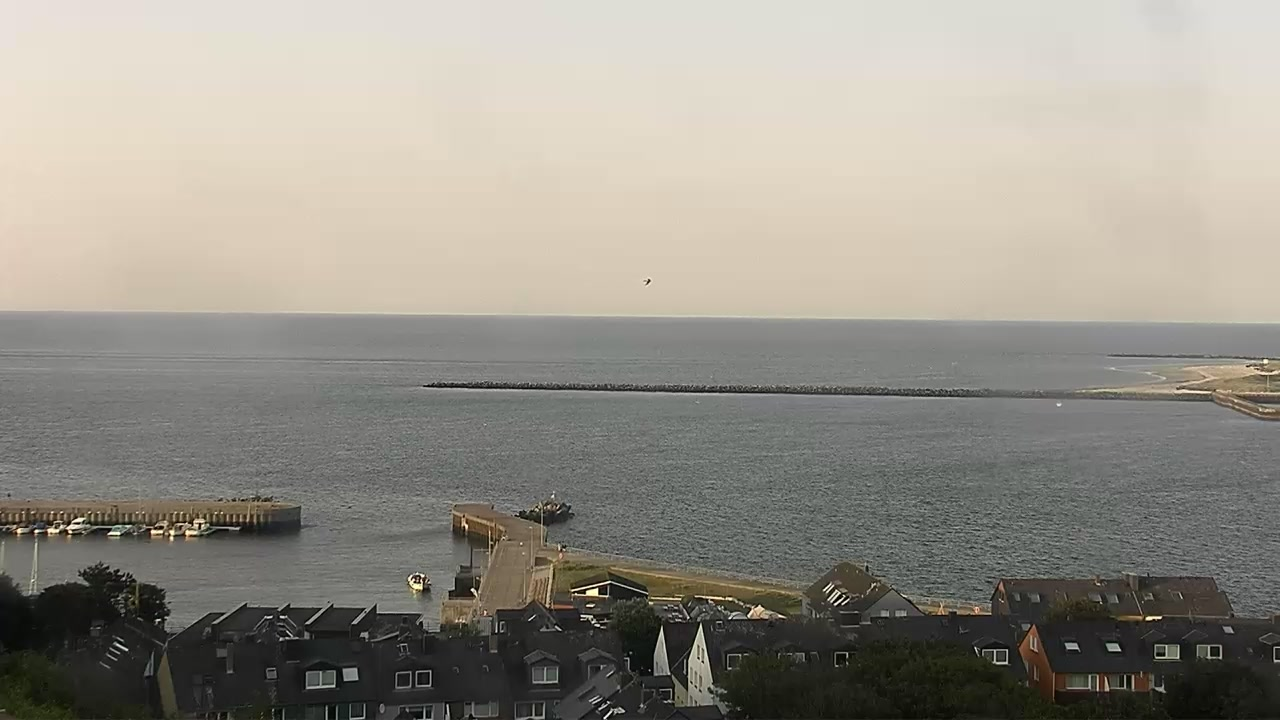human: (971, 604, 979, 614)
sea: (130, 483, 147, 535), (185, 516, 216, 536), (407, 571, 433, 592), (67, 517, 94, 534), (150, 518, 170, 536), (45, 519, 67, 535), (166, 521, 190, 535), (14, 521, 36, 535), (105, 525, 131, 536), (30, 520, 48, 534), (1, 524, 17, 534)
